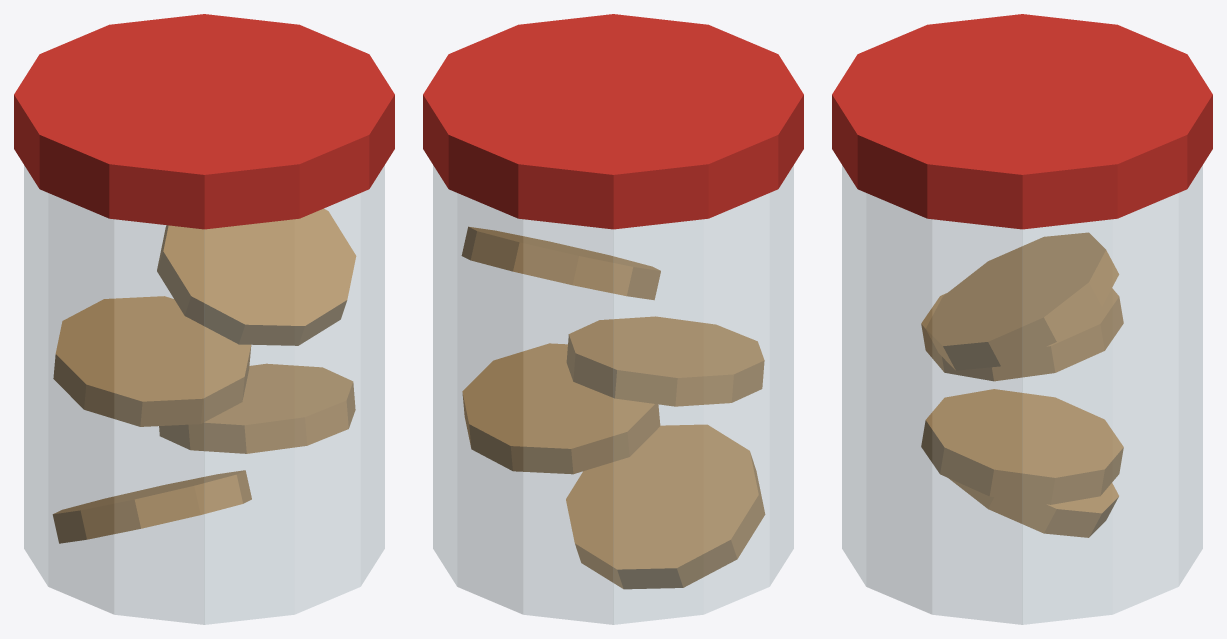
File: cookie_jar.glb
3 views of the same model, side by side, from view 1: azimuth 30°, elevation 25°; view 2: azimuth 150°, elevation 25°; view 3: azimuth 270°, elevation 25° (orthographic).
Visible parts, largest first — view 1: jar_jar_glass, lid_jar_lid, cookie_jar_cookie (×4); view 2: jar_jar_glass, lid_jar_lid, cookie_jar_cookie (×4); view 3: jar_jar_glass, lid_jar_lid, cookie_jar_cookie (×4).
Boxes of the visible parts, x1,y1,x2,y2 form: jar_jar_glass: [24, 165, 384, 624]; lid_jar_lid: [14, 14, 394, 229]; cookie_jar_cookie (×4): [53, 208, 356, 543]; jar_jar_glass: [433, 165, 793, 624]; lid_jar_lid: [423, 14, 803, 229]; cookie_jar_cookie (×4): [461, 226, 765, 589]; jar_jar_glass: [842, 165, 1202, 624]; lid_jar_lid: [832, 14, 1212, 229]; cookie_jar_cookie (×4): [921, 232, 1123, 537].
Bounding box in the file's own units: 0.19 × 0.25 × 0.19.
